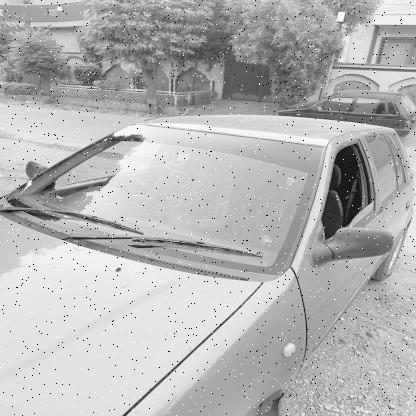no_seatbelt: (162, 147, 210, 209)
